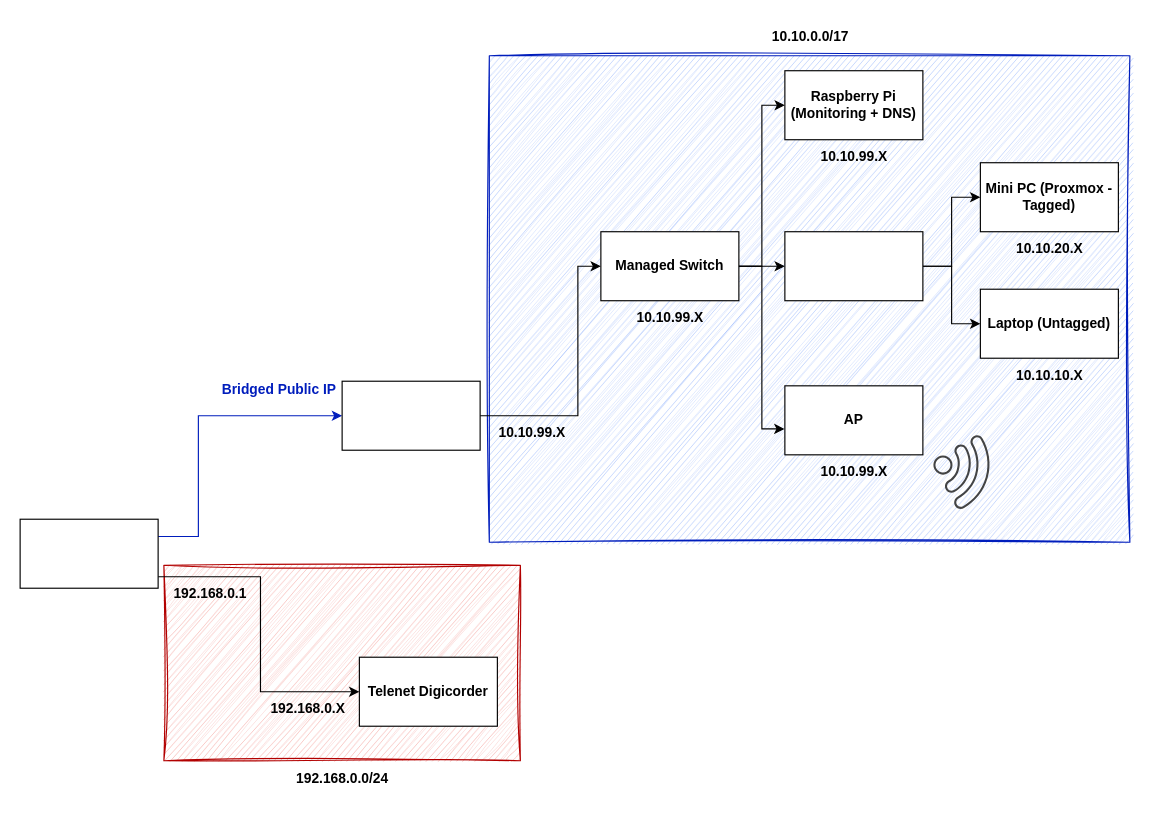
This 1150x815 diagram has some shape labels left out. Each missing label, with the centre of its shape:
"Router" goes at (x=410, y=415).
"Telenet Modem" goes at (x=88, y=553).
"Unmanaged Switch" goes at (x=853, y=266).
